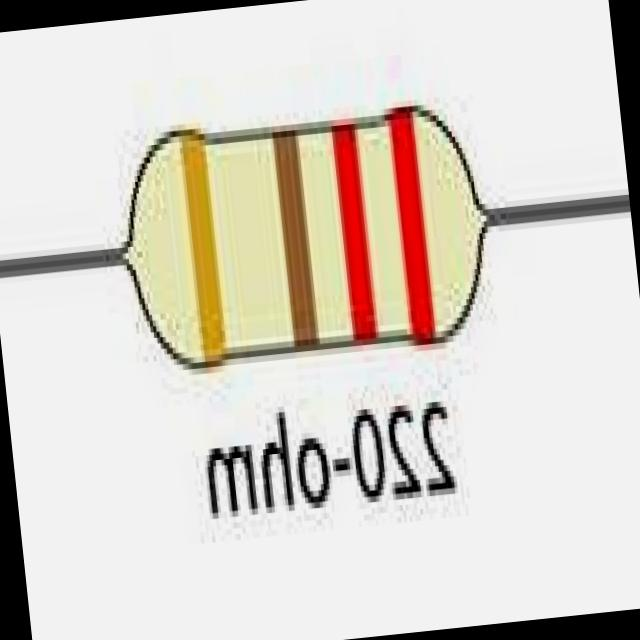Resistor: (122, 100, 500, 368)
brown: (272, 130, 316, 346)
gold: (180, 135, 225, 362)
red: (387, 108, 435, 340), (332, 124, 375, 340)
